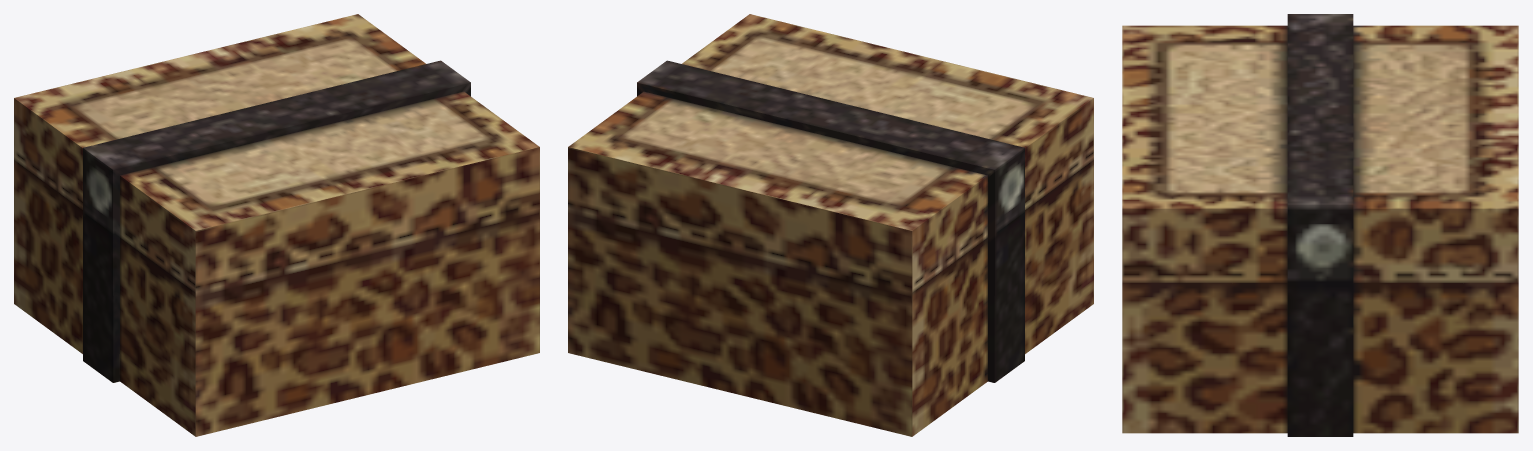
Rendered from furni_0200100.FBX.
3 renders of one model, left to right at view 1: azimuth 30°, elevation 25°; view 2: azimuth 150°, elevation 25°; view 3: azimuth 270°, elevation 25°, orthographic. The views are drawn at different scales.
Visible parts, largest first — view 1: furni_0200100; view 2: furni_0200100; view 3: furni_0200100.
Part boxes in pixels (box(x1,y1,x2,y2)): furni_0200100: box(14, 14, 539, 436); furni_0200100: box(568, 14, 1093, 436); furni_0200100: box(1122, 14, 1518, 436).
Size of the model in its own units: 83.54 by 47.54 by 73.47.
1 material, 1 textured.
